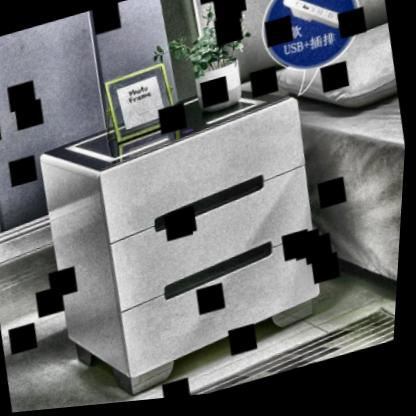Nightstand: (26, 70, 347, 392)
